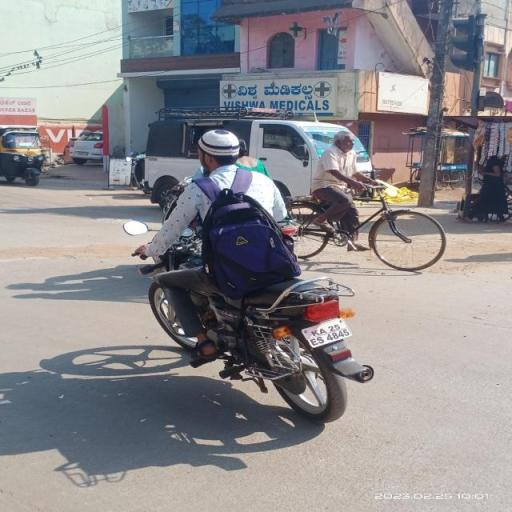bike: (118, 122, 384, 426)
numberplate: (298, 308, 353, 352)
withouthelmet: (198, 130, 240, 166)
